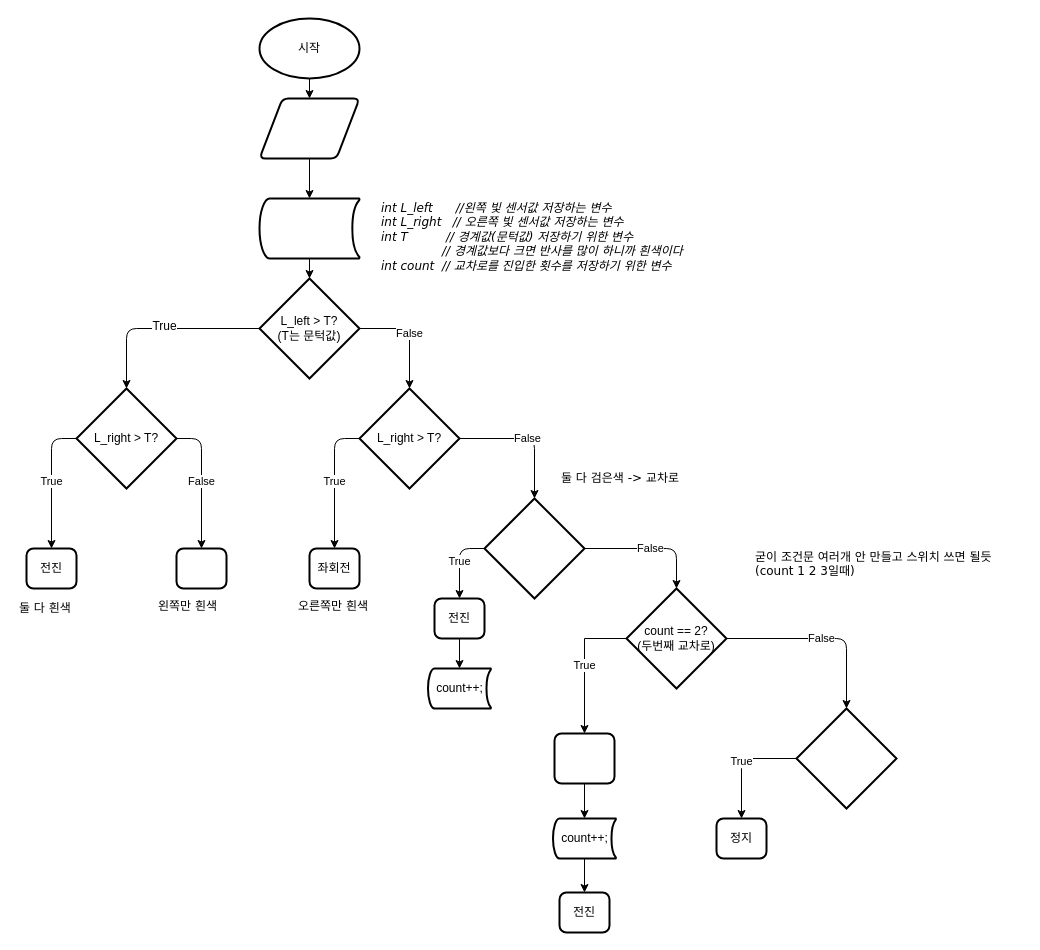
Image size: 1040x950. Some labels were removed from this diagram. Each missing label, with the box of its shape:
count == 1? (첫번째 교차로): (483, 497, 585, 599)
count == 3? (세번째 교차로): (795, 707, 897, 809)
int L_left int L_right int T int count: (258, 197, 360, 259)
소리 울림: (553, 732, 615, 784)
왼쪽, 오른쪽 빛 센서값 저장 변수 선언: (258, 97, 360, 159)
우회전: (175, 547, 227, 589)
